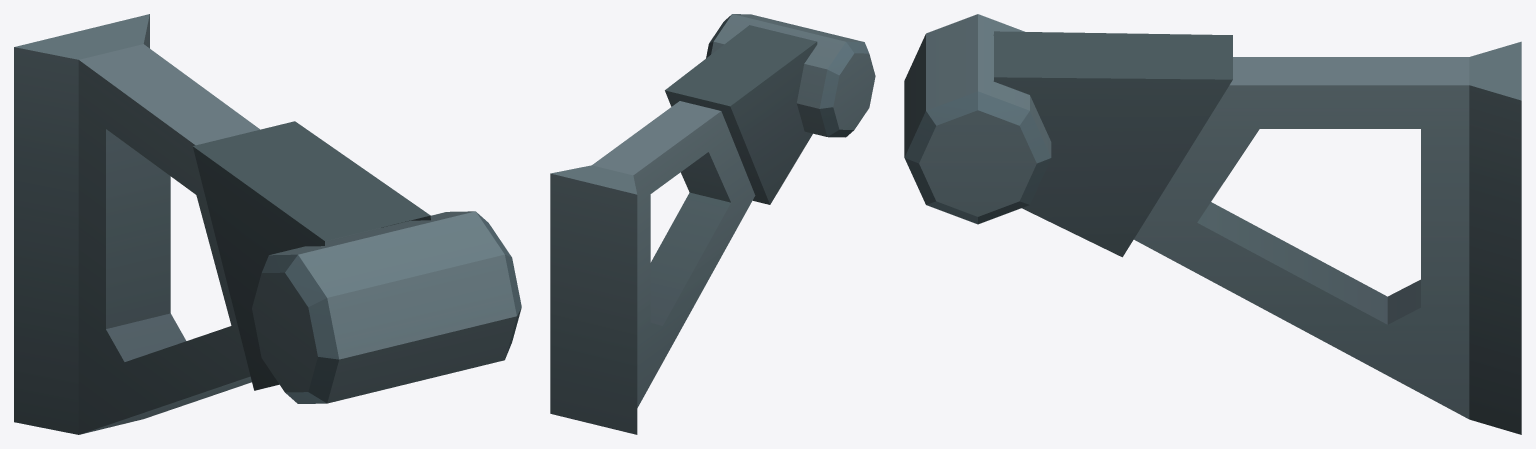
File: Security_cam_010.fbx
3 views of the same model, side by side, from view 1: azimuth 30°, elevation 25°; view 2: azimuth 150°, elevation 25°; view 3: azimuth 270°, elevation 25° (orthographic). The views are drawn at different scales.
Parts seen in each view (by area): view 1: Security_cam_010; view 2: Security_cam_010; view 3: Security_cam_010.
Boxes of the visible parts, bbox=[...] form: Security_cam_010: bbox=[14, 14, 521, 434]; Security_cam_010: bbox=[550, 14, 875, 434]; Security_cam_010: bbox=[904, 14, 1521, 434].
Bounding box in the file's own units: 15.25 × 44.85 × 28.29.
